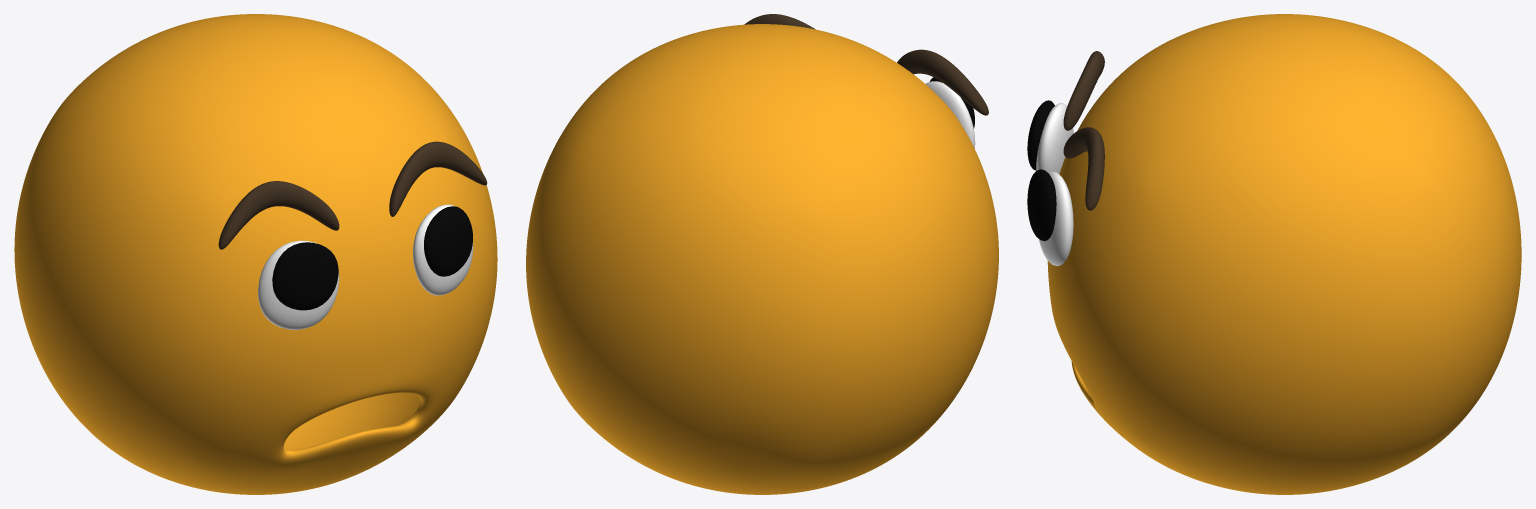
File: Rolling Eyes.glb
3 views of the same model, side by side, from view 1: azimuth 30°, elevation 25°; view 2: azimuth 150°, elevation 25°; view 3: azimuth 270°, elevation 25° (orthographic). The views are drawn at different scales.
Visible parts, largest first — view 1: Cube.002_Cube.002, Cube.001_Cube.003, Cube.003_Cube.004, Cube_Cube.002; view 2: Cube.002_Cube.002, Cube.003_Cube.004, Cube_Cube.002; view 3: Cube.002_Cube.002, Cube_Cube.002, Cube.003_Cube.004, Cube.001_Cube.003.
Boxes of the visible parts, x1,y1,x2,y2 form: Cube.002_Cube.002: (14, 14, 497, 494); Cube.001_Cube.003: (272, 206, 472, 310); Cube.003_Cube.004: (218, 141, 487, 249); Cube_Cube.002: (258, 204, 473, 329); Cube.002_Cube.002: (526, 24, 998, 494); Cube.003_Cube.004: (744, 14, 988, 115); Cube_Cube.002: (926, 81, 975, 148); Cube.002_Cube.002: (1047, 14, 1521, 494); Cube_Cube.002: (1036, 103, 1073, 266); Cube.003_Cube.004: (1063, 51, 1104, 210); Cube.001_Cube.003: (1027, 100, 1056, 241).
Size of the model in its own units: 1.66 by 1.66 by 1.73.
